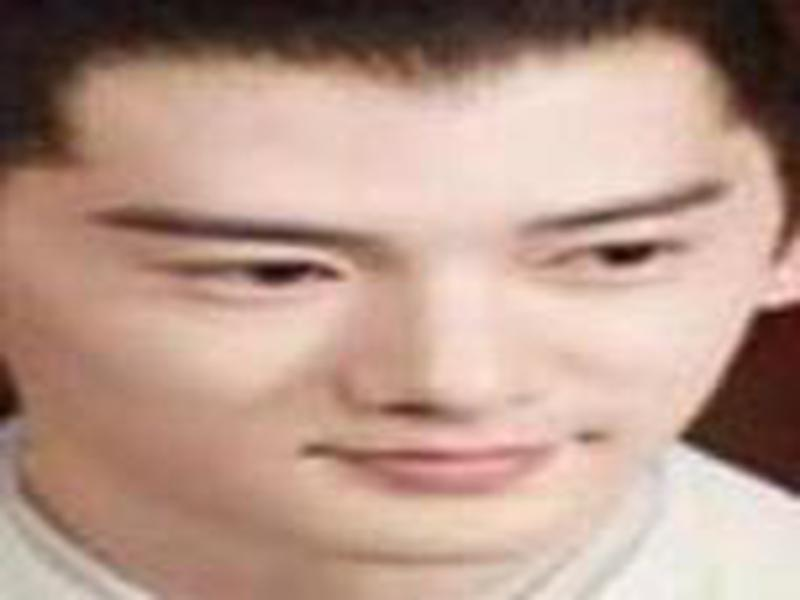without_mask: (24, 47, 776, 575)
